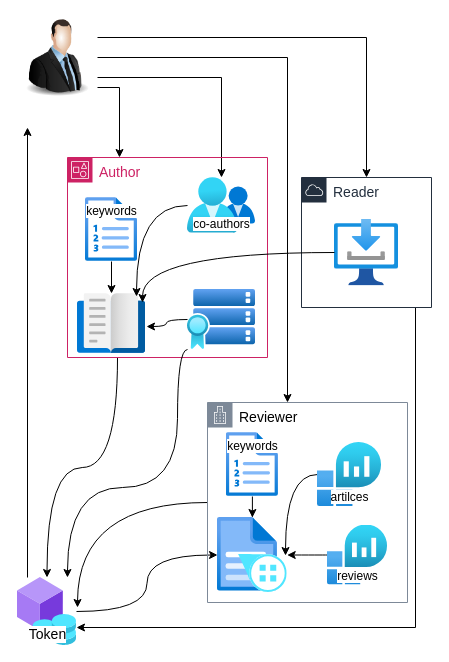
Image size: 449x662. Some labels were removed from this diagram. The shapes that lost their labels are listed below. From the top down, each one's centre as x and y in pixels, then its label:
[57,57]: User
[366,252]: download
[111,323]: article
[221,319]: reference
[252,554]: review
